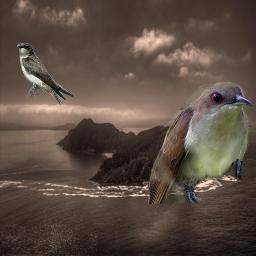Cuckoo: (148, 82, 254, 204)
Swallow: (17, 43, 75, 106)
